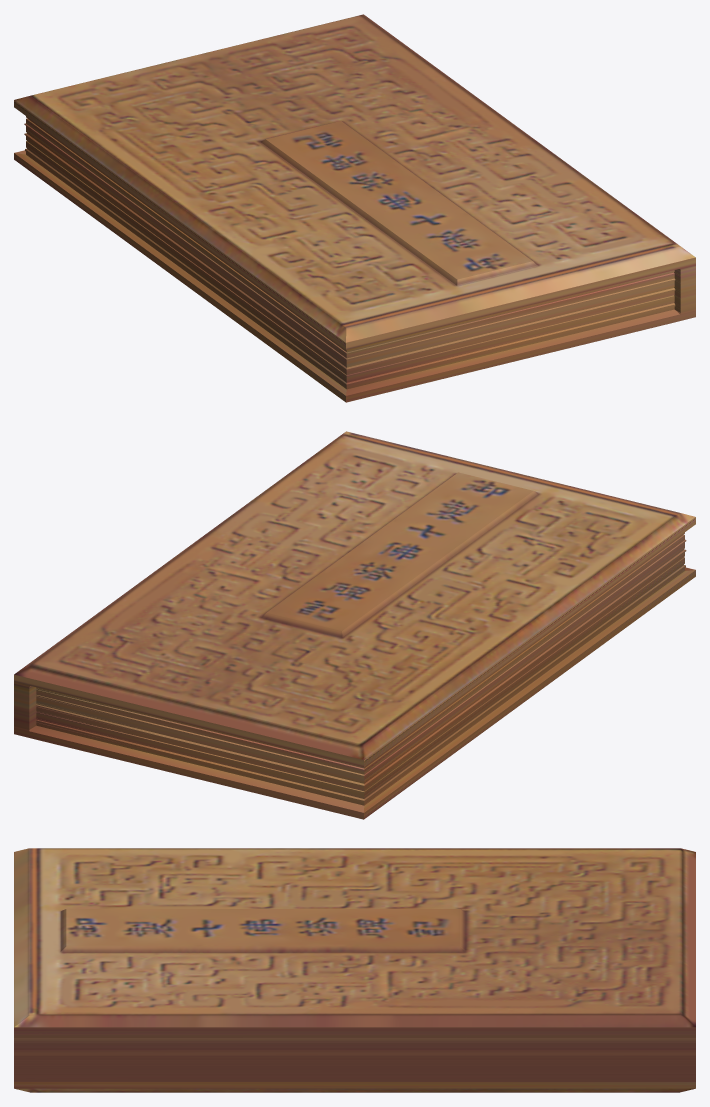
The model's file is Book_3_JBischer 1.fbx.
The picture shows the model from 3 angles, top to bottom: view 1: azimuth 30°, elevation 25°; view 2: azimuth 150°, elevation 25°; view 3: azimuth 270°, elevation 25°; orthographic projection. The views are drawn at different scales.
Visible parts, largest first — view 1: Cube; view 2: Cube; view 3: Cube.
Boxes of the visible parts, box(x1,y1,x2,y2) form: Cube: box(14, 14, 695, 402); Cube: box(14, 431, 695, 819); Cube: box(14, 848, 695, 1092).
Size of the model in its own units: 379 by 86.01 by 623.
